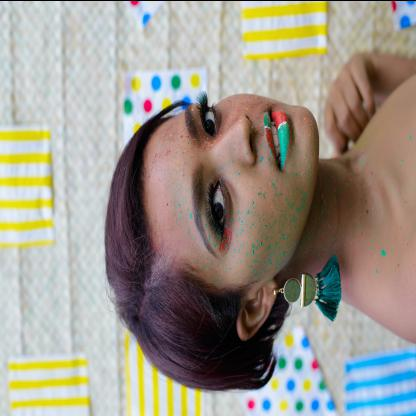Eye: (208, 176, 231, 235), (201, 103, 221, 136)
Mouth: (263, 109, 290, 171)
Nose: (213, 113, 257, 167)
